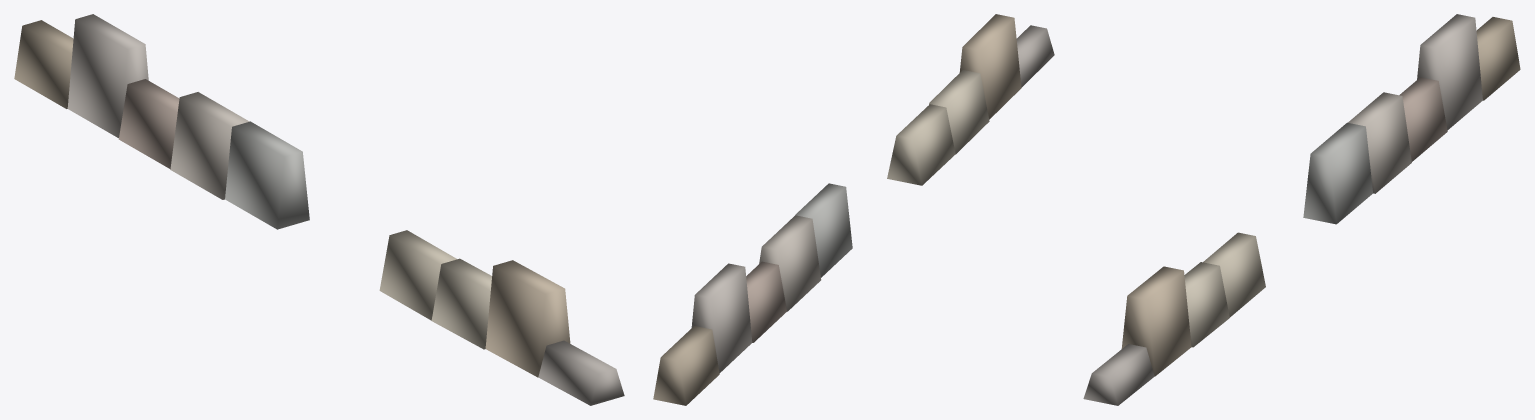
Rendered from farm_13_1_collision.glb.
3 renders of one model, left to right at view 1: azimuth 30°, elevation 25°; view 2: azimuth 150°, elevation 25°; view 3: azimuth 330°, elevation 25°, orthographic. The views are drawn at different scales.
Parts seen in each view (by area): view 1: geometry_0; view 2: geometry_0; view 3: geometry_0.
Part boxes in pixels (x1,y1,x2,y2): geometry_0: (14, 14, 624, 405); geometry_0: (653, 14, 1054, 405); geometry_0: (1083, 14, 1520, 405).
Bounding box in the file's own units: 1.99 × 1.8 × 16.19.
